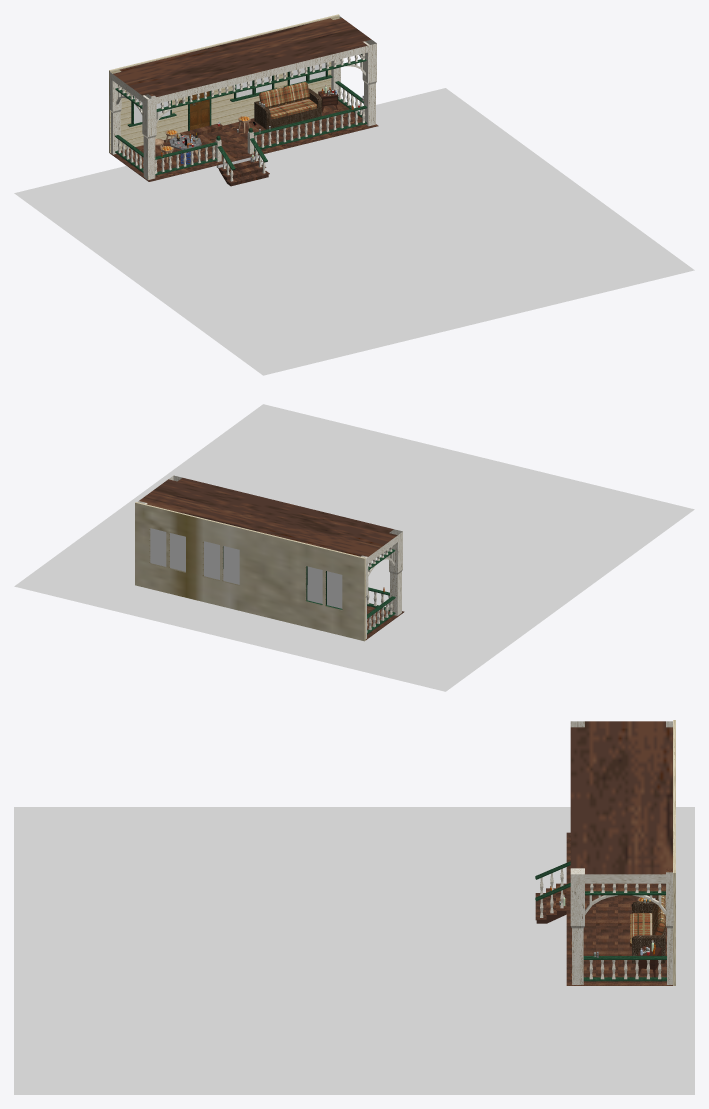
File: veranda_export.glb
The picture shows the model from 3 angles, top to bottom: view 1: azimuth 30°, elevation 25°; view 2: azimuth 150°, elevation 25°; view 3: azimuth 270°, elevation 25°; orthographic projection. The views are drawn at different scales.
Visible parts, largest first — view 1: Plane.002, Cube.348, Cube.247, Cube.347, Cube.017, Cube.041, Cube.020, Cube.043, Cube.003, Cube.013, Cube.088, Cube.042 (+1 smaller); view 2: Plane.002, Cube.347, Cube.348, Cube.026, Cube.025, Cube.024, Cube.041; view 3: Plane.002, Cube.348, Cube.247, Cube.043, Cube.015, Cube.020, Cube.347, Cube.003, Cube.044.
Part boxes in pixels (left/top/right/bottom): Plane.002: left=14, top=88, right=694, bottom=375; Cube.348: left=113, top=18, right=371, bottom=96; Cube.247: left=110, top=101, right=378, bottom=181; Cube.347: left=109, top=14, right=339, bottom=153; Cube.017: left=151, top=45, right=367, bottom=103; Cube.041: left=142, top=96, right=156, bottom=179; Cube.020: left=254, top=88, right=321, bottom=129; Cube.043: left=362, top=40, right=376, bottom=126; Cube.003: left=217, top=158, right=269, bottom=186; Cube.013: left=188, top=91, right=211, bottom=131; Cube.088: left=156, top=59, right=366, bottom=111; Cube.042: left=110, top=72, right=121, bottom=154; Plane.002: left=14, top=404, right=694, bottom=691; Cube.347: left=135, top=502, right=365, bottom=641; Cube.348: left=139, top=477, right=397, bottom=556; Cube.026: left=150, top=528, right=185, bottom=571; Cube.025: left=204, top=541, right=239, bottom=584; Cube.024: left=307, top=566, right=342, bottom=608; Cube.041: left=389, top=529, right=402, bottom=615; Plane.002: left=14, top=807, right=694, bottom=1094; Cube.348: left=570, top=721, right=672, bottom=874; Cube.247: left=566, top=832, right=672, bottom=985; Cube.043: left=570, top=874, right=584, bottom=984; Cube.015: left=585, top=872, right=672, bottom=883; Cube.020: left=632, top=901, right=665, bottom=963; Cube.347: left=673, top=720, right=675, bottom=985; Cube.003: left=535, top=883, right=566, bottom=923; Cube.044: left=666, top=874, right=673, bottom=984.
Size of the model in its own units: 18.38 by 4.34 by 18.38.
36 materials, 32 textured.
